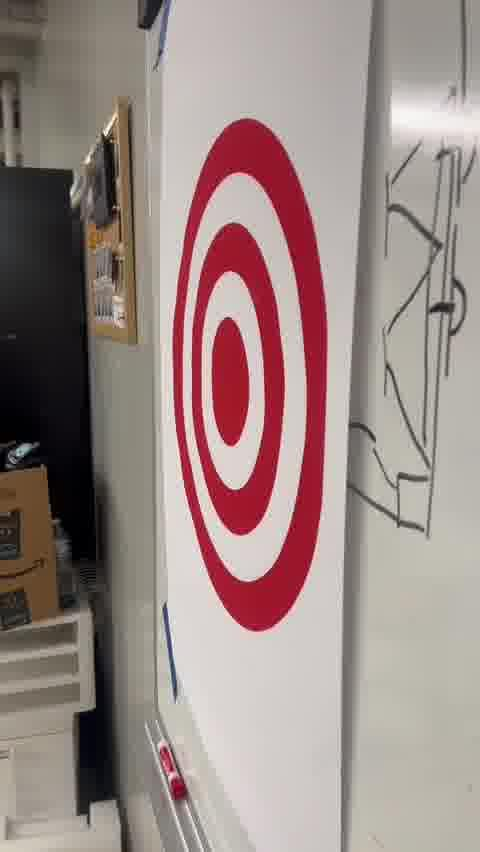target_red: (172, 116, 330, 635)
